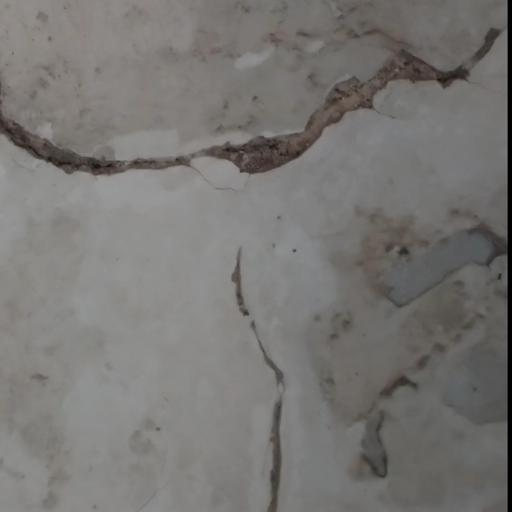major_crack: (0, 7, 507, 193), (203, 230, 330, 512)
